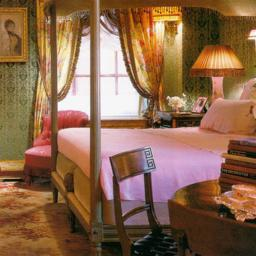Cama: (49, 95, 245, 217)
Ventana: (50, 7, 144, 118)
